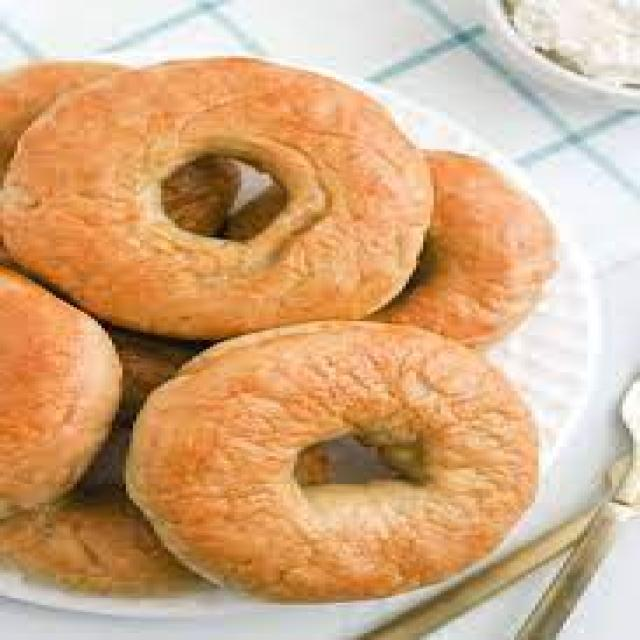Bagel: (2, 57, 432, 338), (126, 321, 537, 600), (368, 150, 556, 346), (1, 267, 122, 513)
